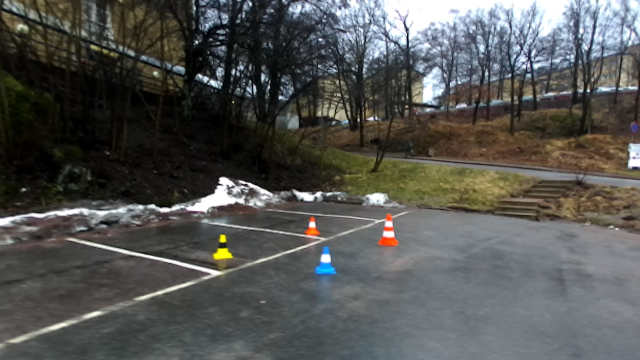blue: (312, 244, 337, 277)
orange: (304, 213, 319, 238)
orange2: (376, 212, 398, 246)
yellow: (211, 234, 232, 261)
